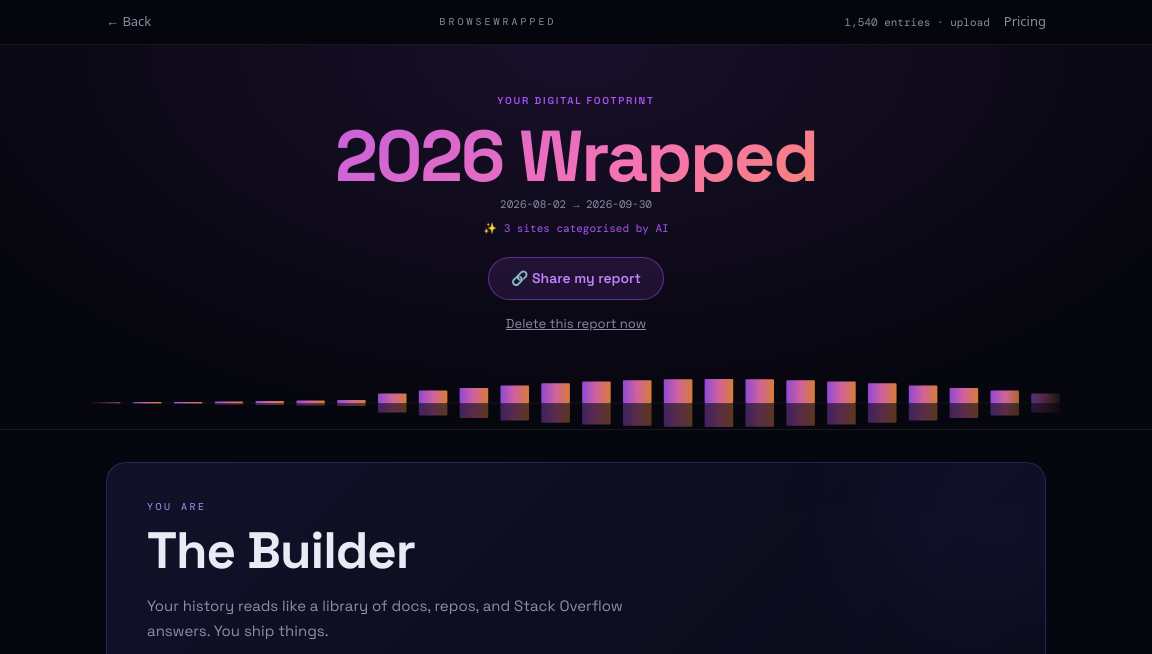
Test: AnalysisPage "Delete this report now" › can be cancelled with "Keep report"
Expected: the heading "The Builder" is shown, [147, 518, 415, 583]
What coordinates should you click on to do the following:
click the button "Delete this report now"
I would click on:
 (576, 323)
Its box is [504, 310, 648, 337].
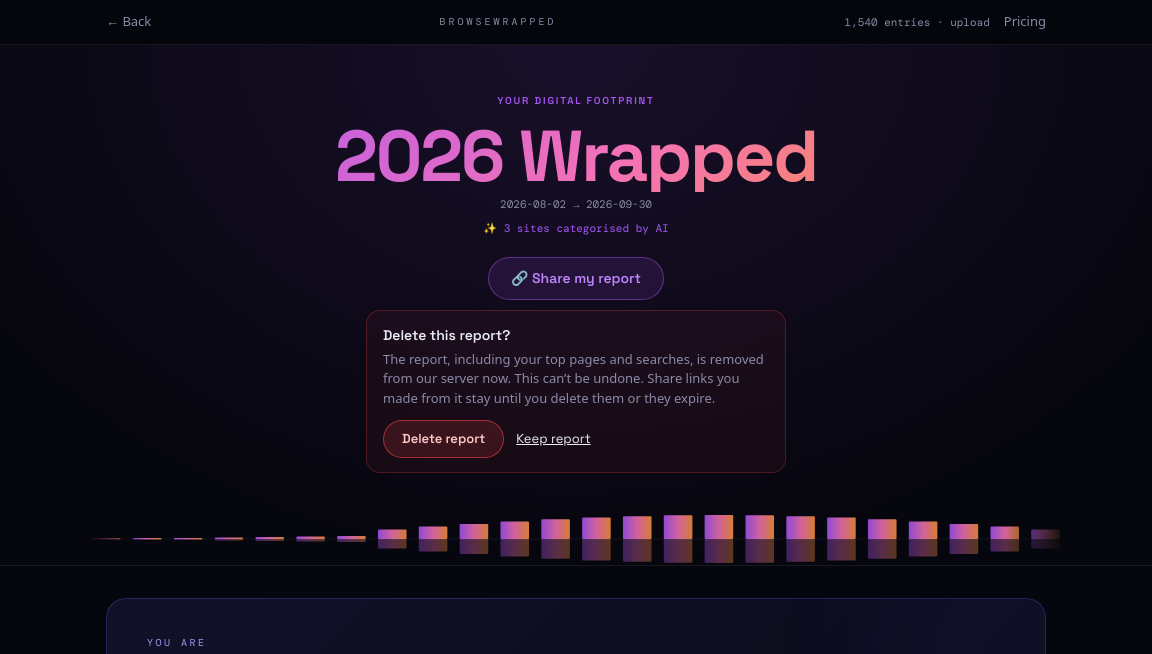
What coordinates should you click on to do the following:
click the button "Keep report"
I would click on:
 (553, 439)
Its box is [514, 420, 593, 458].
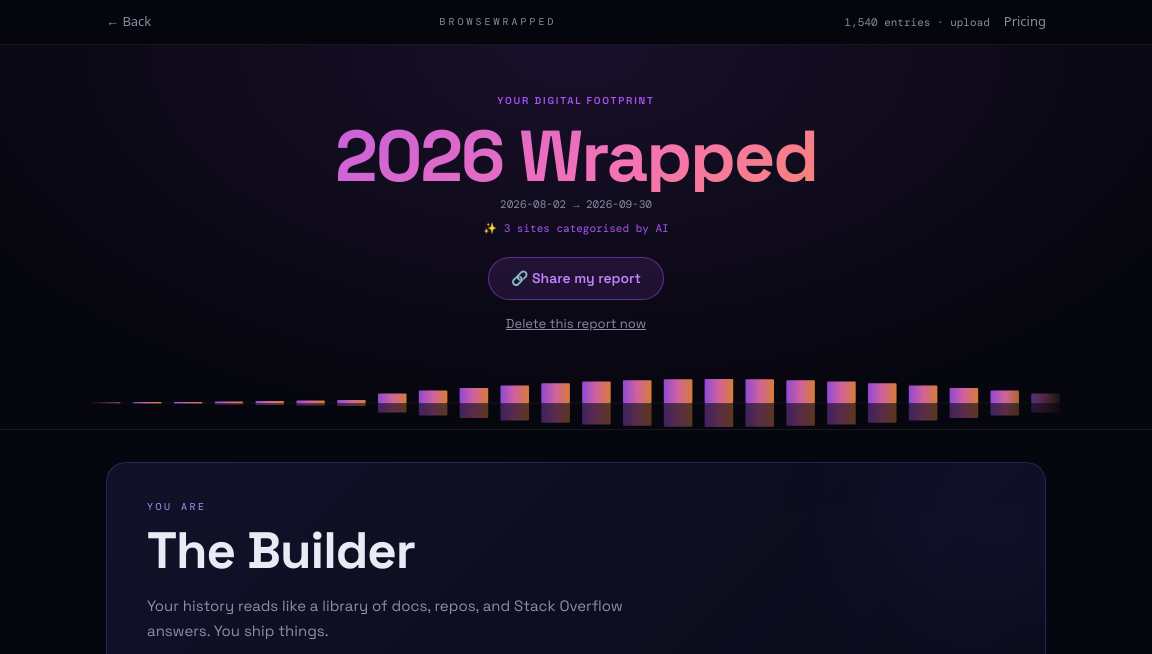
Now the button "Delete this report now" is shown, box [504, 310, 648, 337]
